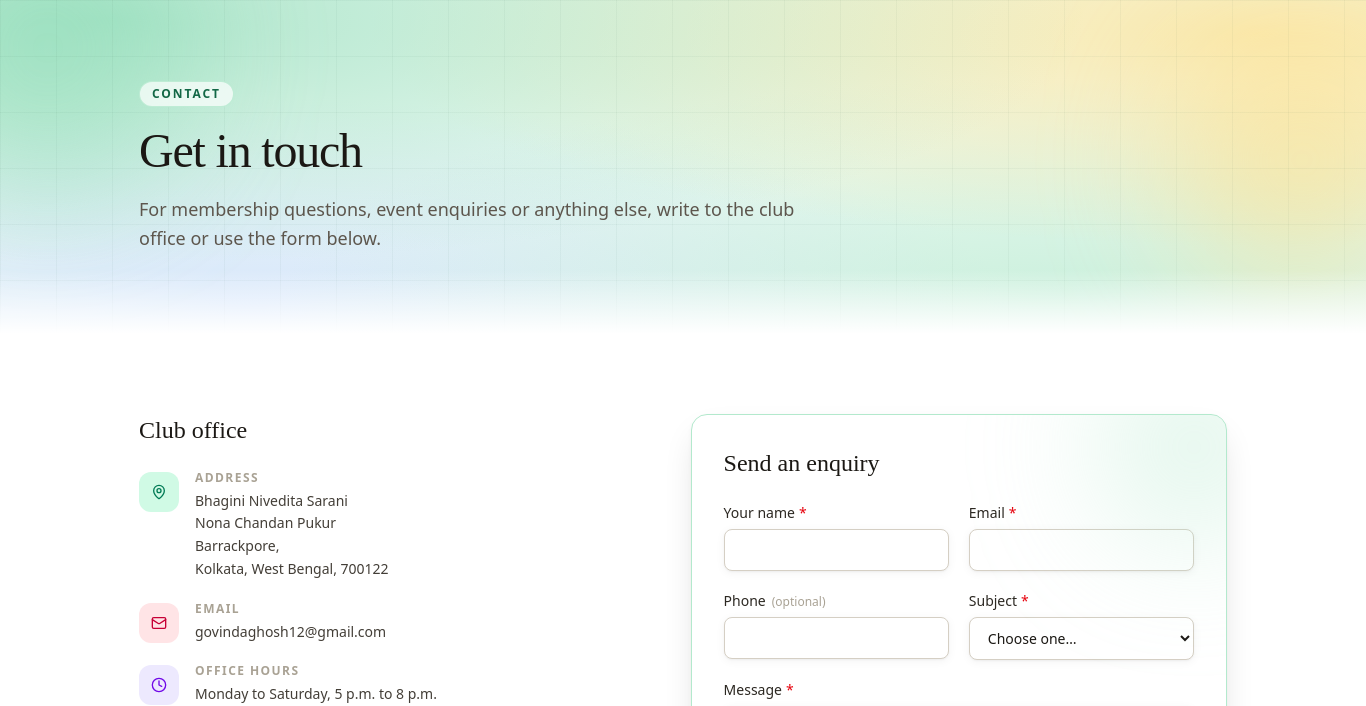
Test case: when it cannot be sent › says so when the network fails outright
Type "Bristi Ghosh" into the field labelled "Your name*".
click(836, 550); type("Bristi Ghosh")  # box [724,528,949,570]
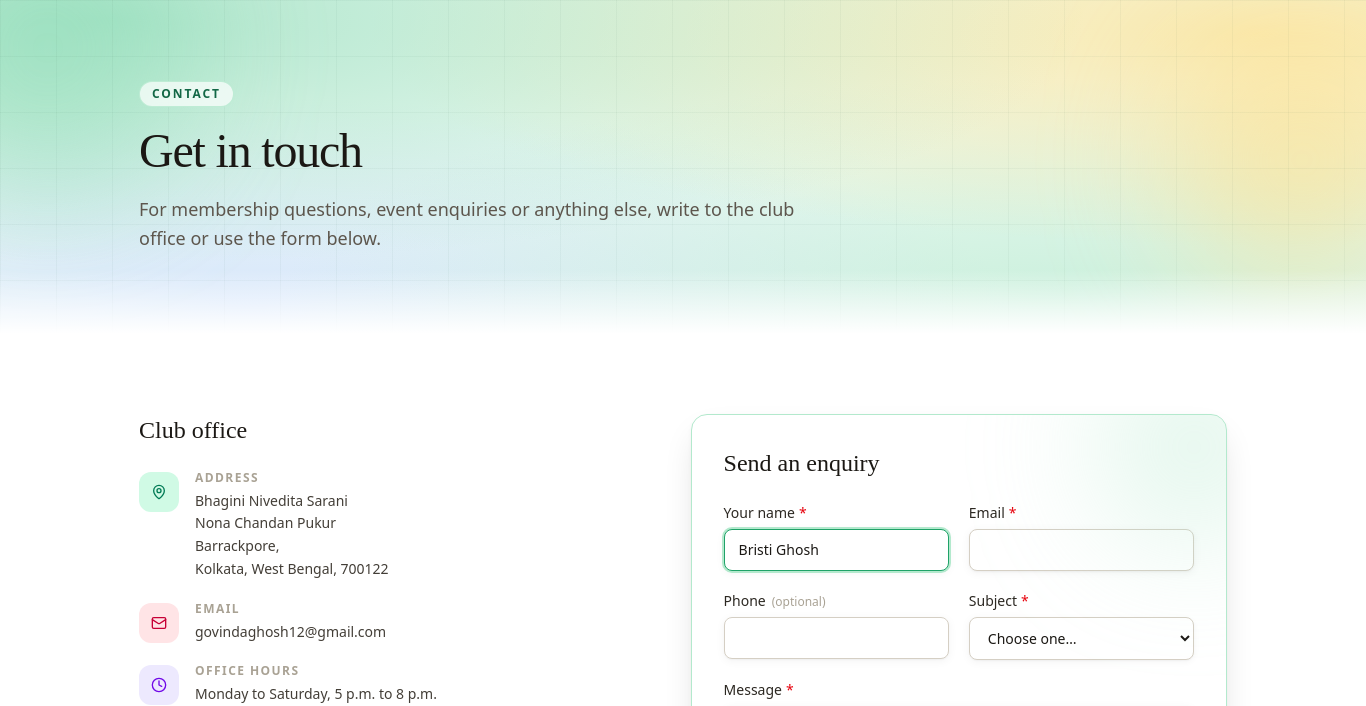
Type "bristi@example.org" into the field labelled "Email*".
click(1081, 550); type("bristi@example.org")  # box [969,528,1194,570]
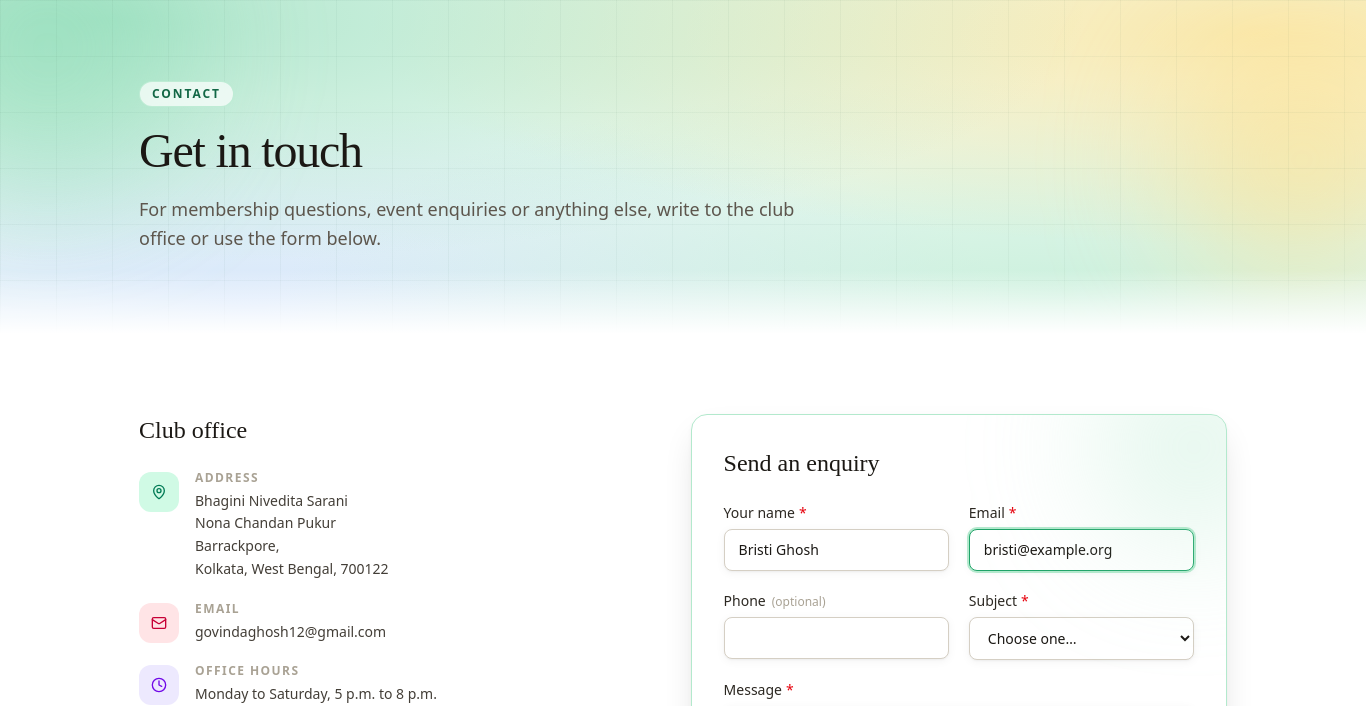
Select "Membership enquiry" in the dropdown labelled "Subject*" at coordinates (1081, 638), box [969,616,1194,660]
(page scrolled)
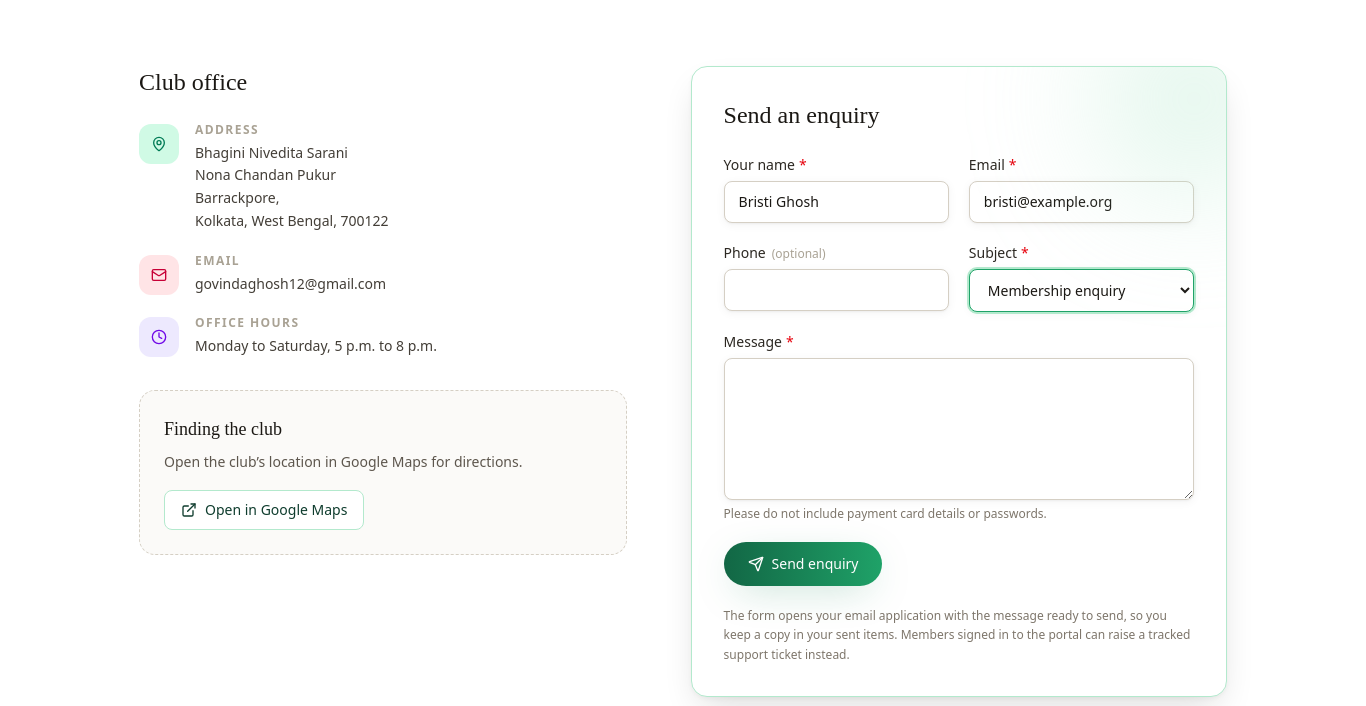
Type "I live on Station Road and would like to know how to become a member." into the text box labelled "Message*".
click(959, 428); type("I live on Station Road and would like to know how to become a member.")  # box [724,358,1194,500]
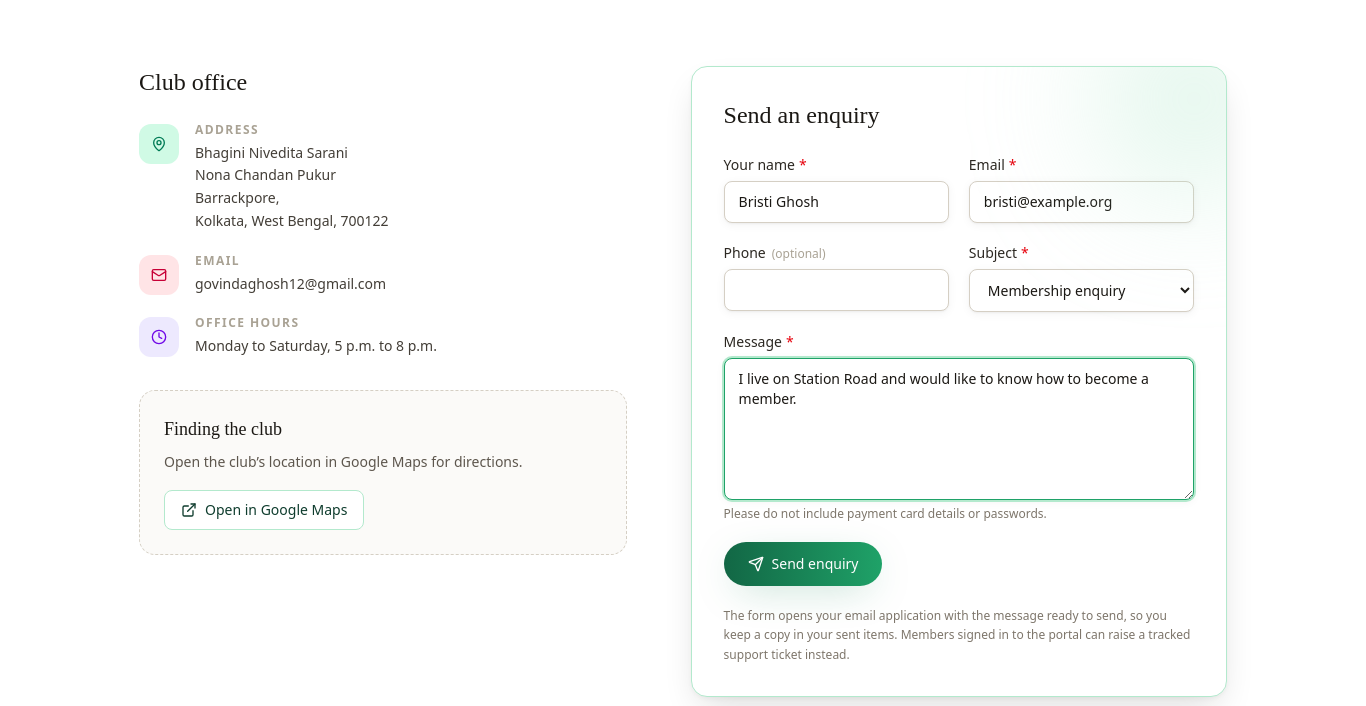
Click the button "Send enquiry".
click(803, 564)  # box [724,542,882,586]
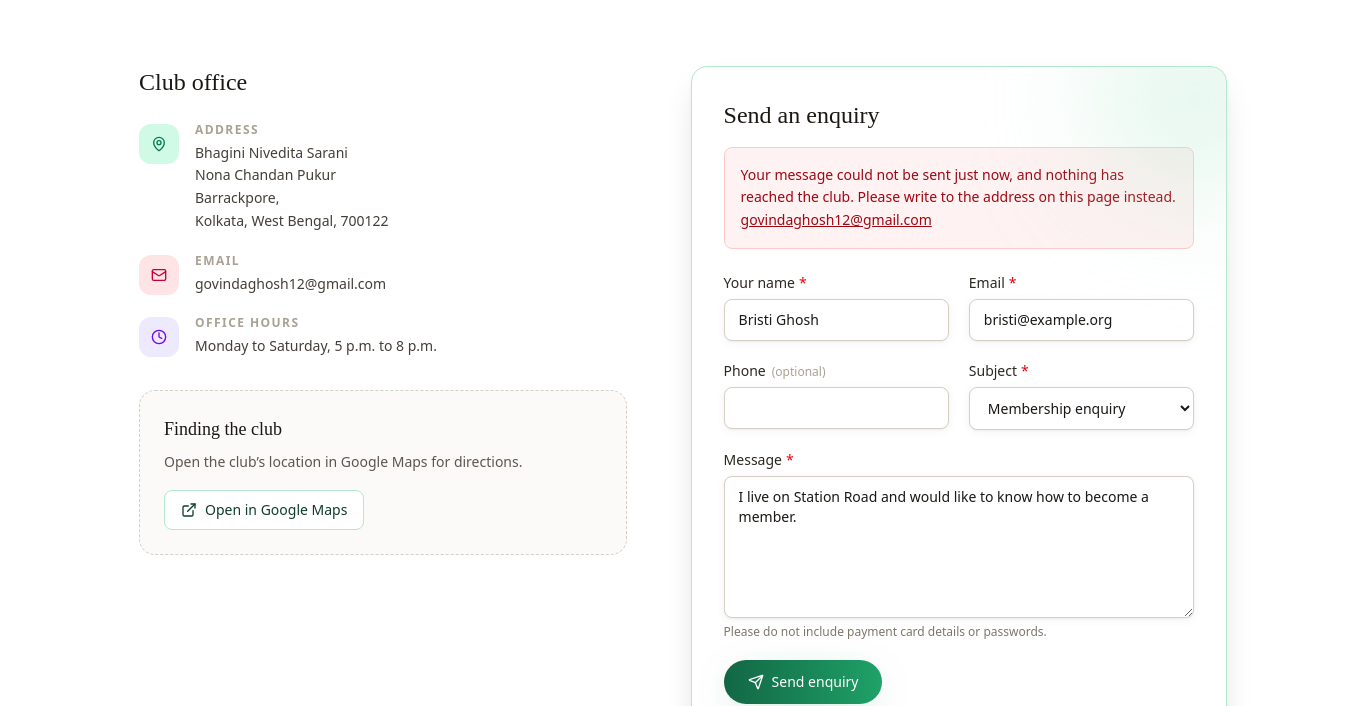
Now the message shows "nothing has reached the club", box [741,164,1176,206]
